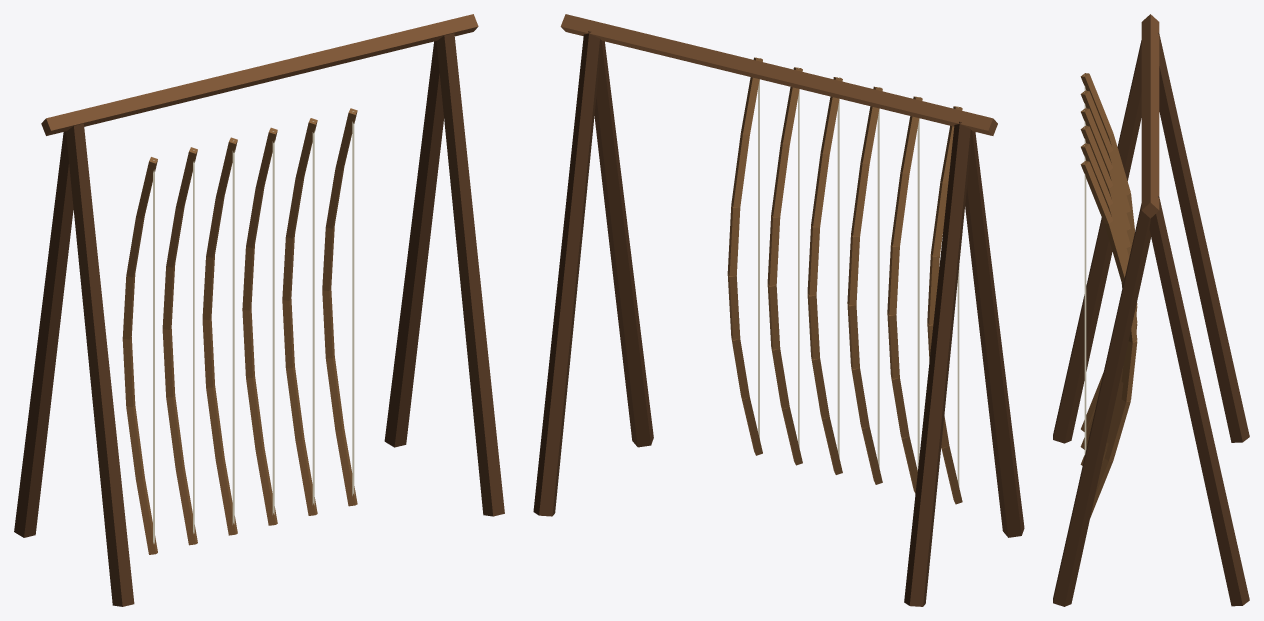
The model's file is pile_bows_2.glb.
3 views of the same model, side by side, from view 1: azimuth 30°, elevation 25°; view 2: azimuth 150°, elevation 25°; view 3: azimuth 270°, elevation 25° (orthographic). The views are drawn at different scales.
Parts seen in each view (by area): view 1: pile_bows_2; view 2: pile_bows_2; view 3: pile_bows_2.
Boxes of the visible parts, <box> form: pile_bows_2: <box>14,14,504,606</box>; pile_bows_2: <box>533,14,1024,606</box>; pile_bows_2: <box>1053,14,1249,606</box>.
Bounding box in the file's own units: 1.5 × 1.54 × 0.6621.
